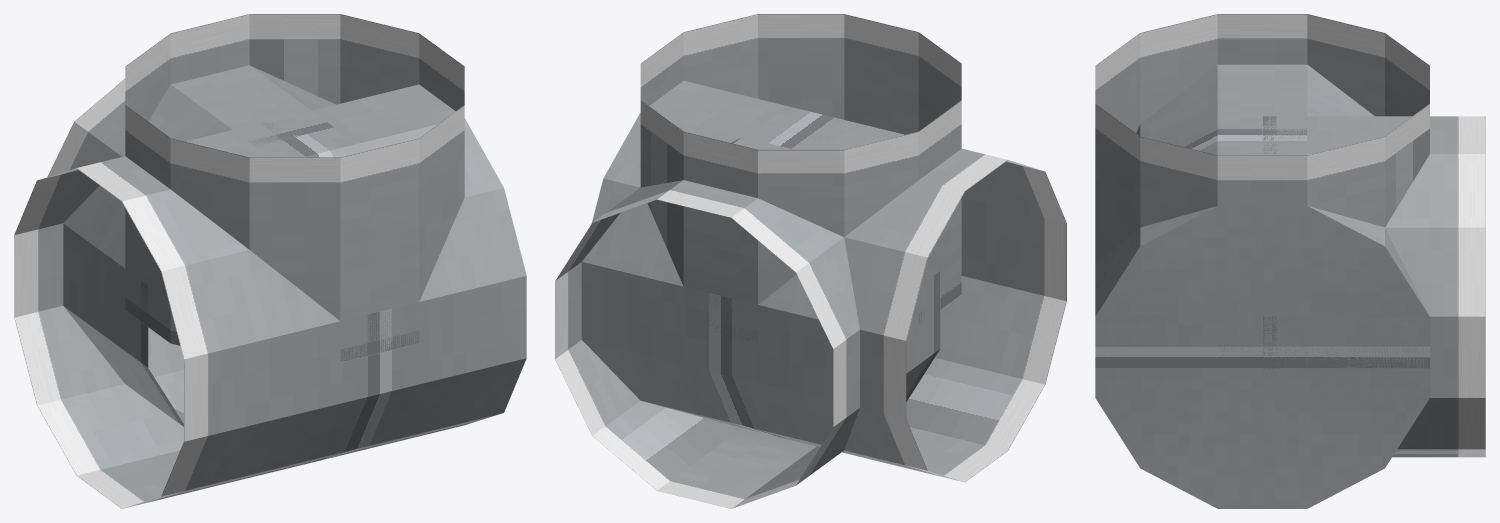
The model's file is connection_22.obj.
3 renders of one model, left to right at view 1: azimuth 30°, elevation 25°; view 2: azimuth 150°, elevation 25°; view 3: azimuth 270°, elevation 25°, orthographic. The views are drawn at different scales.
Size of the model in its own units: 0.875 by 0.875 by 0.875.
